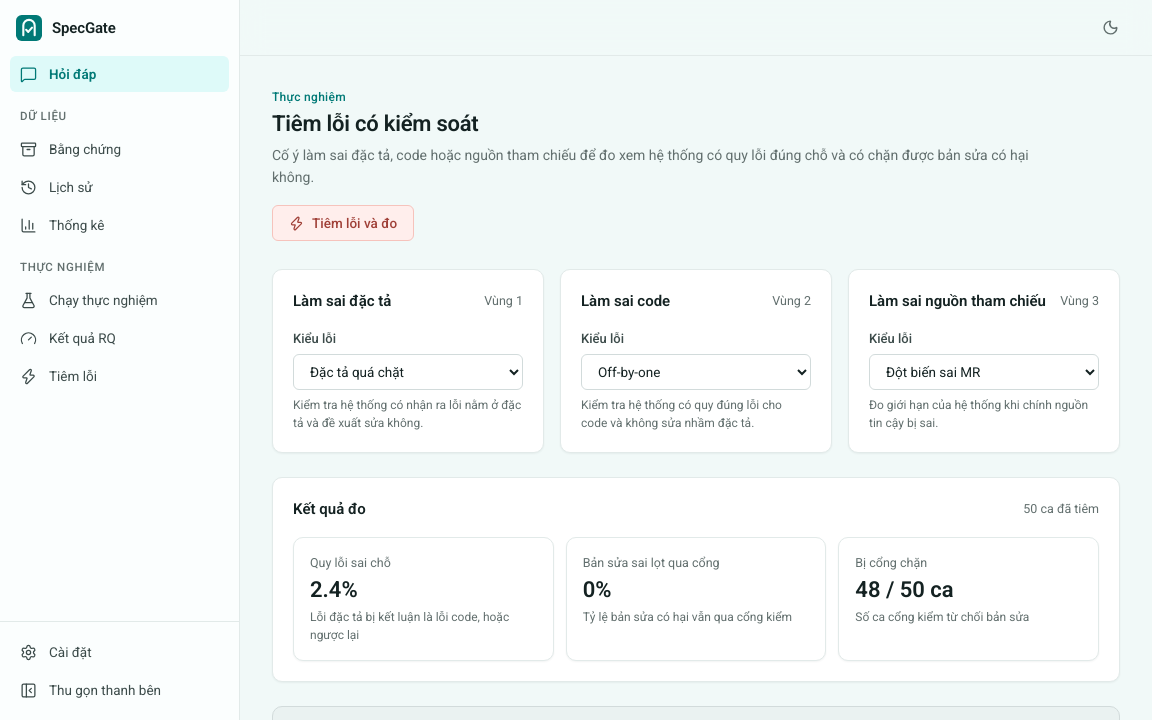
Fault Injection Dashboard UI › sends the selected profile and renders metrics returned by the API
The image size is (1152, 720).
Check: the text with test id "metric-misattribution-rate" reads "2.4%", box x1=310 y1=577 x2=358 y2=602
Click the button with test id "run-injection-btn": point(343, 223) x1=272 y1=205 x2=414 y2=241
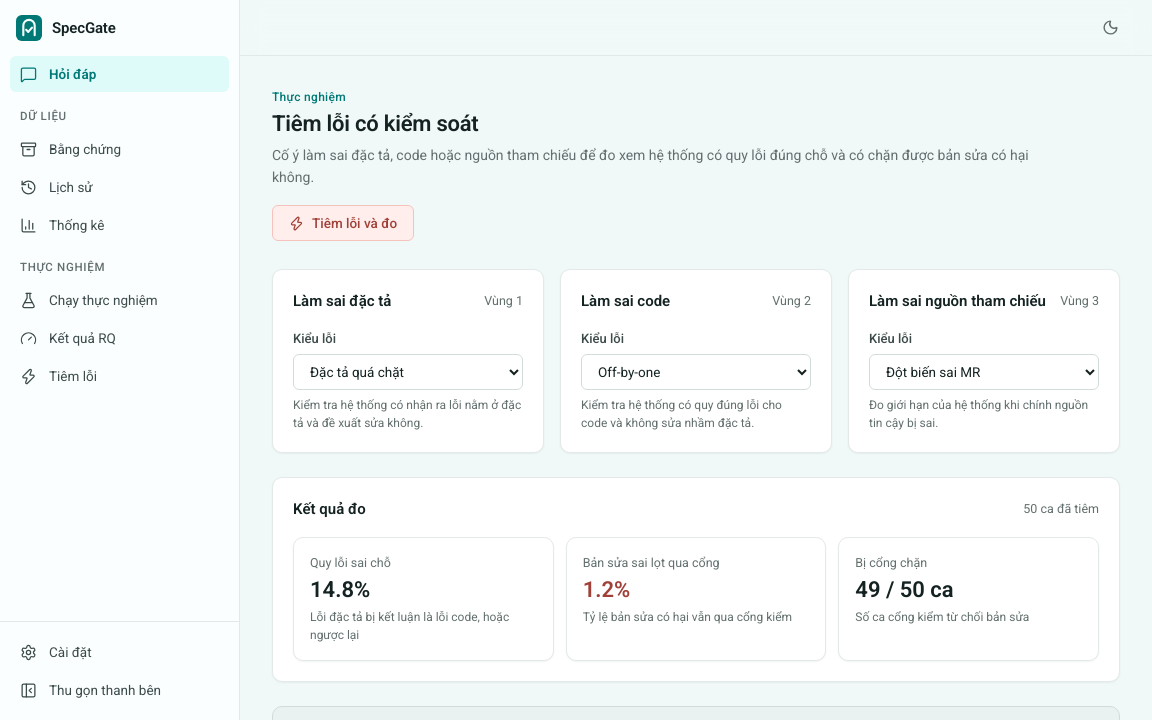
Check: the text "14.8%" is shown, box x1=310 y1=577 x2=370 y2=602
Check: the text with test id "metric-patch-slip-rate" reads "1.2%", box x1=583 y1=577 x2=630 y2=602
